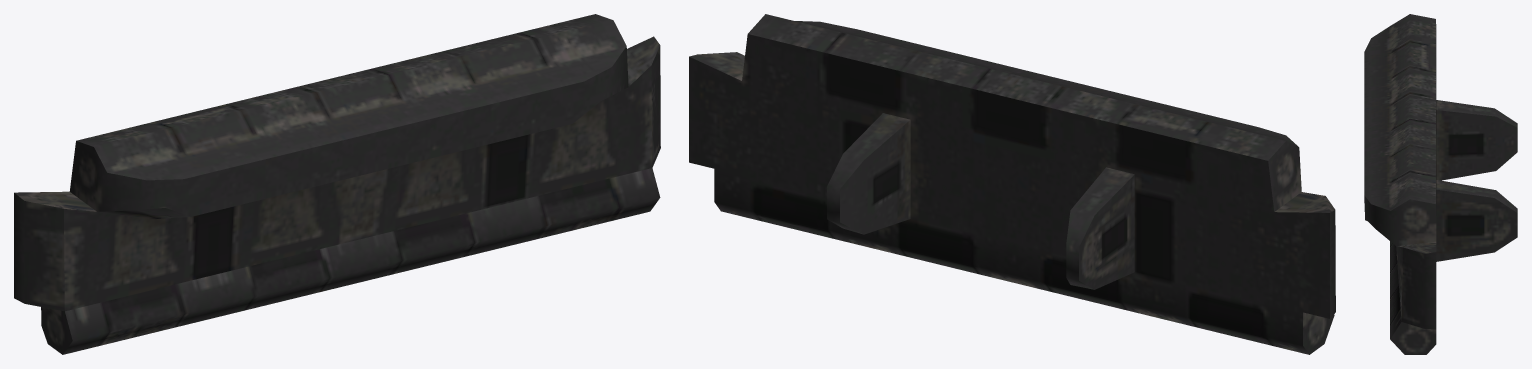
3 views of the same model, side by side, from view 1: azimuth 30°, elevation 25°; view 2: azimuth 150°, elevation 25°; view 3: azimuth 270°, elevation 25° (orthographic). The views are drawn at different scales.
Parts seen in each view (by area): view 1: set_0_group_0; view 2: set_0_group_0; view 3: set_0_group_0.
Boxes of the visible parts, bbox=[...] form: set_0_group_0: bbox=[14, 14, 660, 354]; set_0_group_0: bbox=[689, 14, 1335, 354]; set_0_group_0: bbox=[1364, 14, 1517, 354].
Bounding box in the file's own units: 0.663 × 0.1949 × 0.1887.
1 material, 1 textured.
